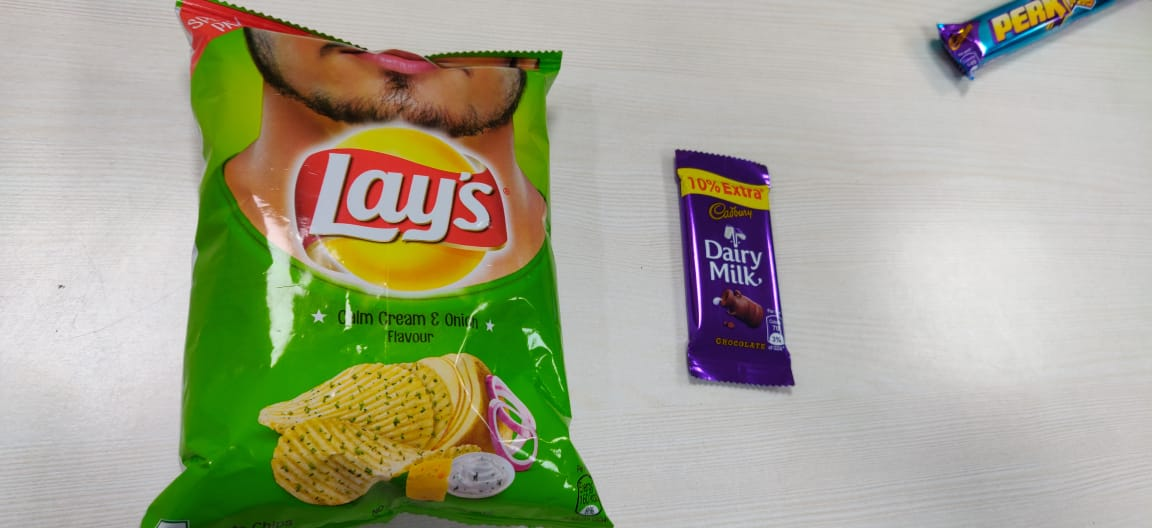dairy milk: (668, 145, 804, 400)
lays chips: (161, 6, 618, 528)
perk: (923, 1, 1139, 91)
